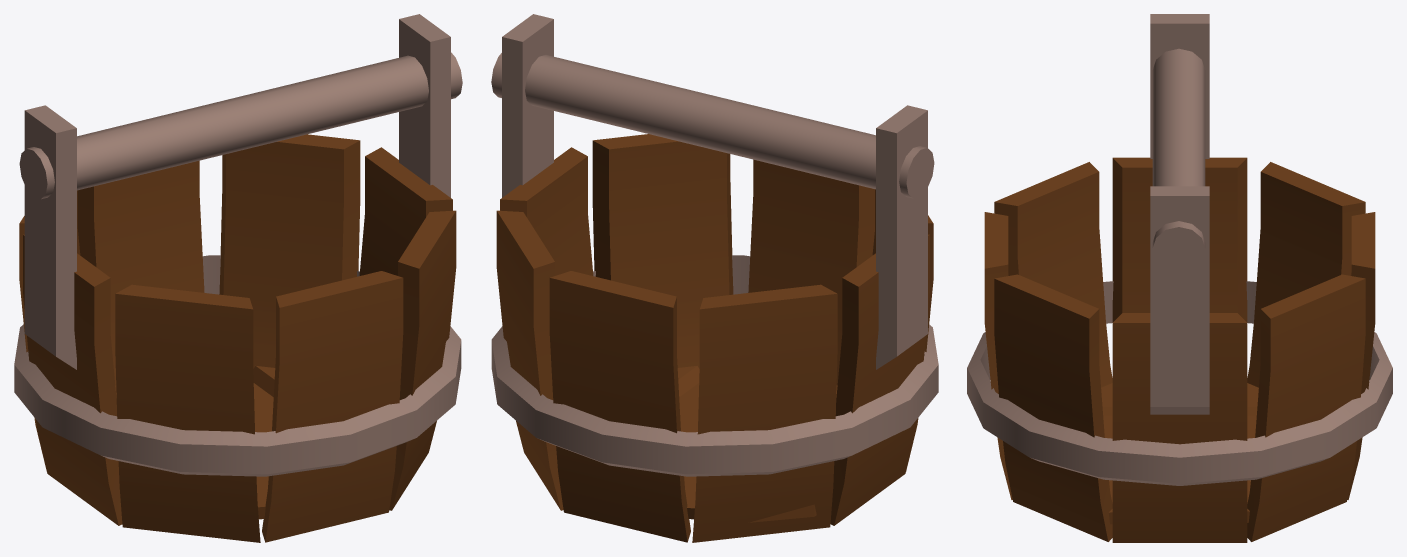
File: Prop_Bucket.glb
3 renders of one model, left to right at view 1: azimuth 30°, elevation 25°; view 2: azimuth 150°, elevation 25°; view 3: azimuth 270°, elevation 25°, orthographic. The views are drawn at different scales.
Visible parts, largest first — view 1: Prop_Bucket; view 2: Prop_Bucket; view 3: Prop_Bucket.
Part boxes in pixels (box(x1,y1,x2,y2)): Prop_Bucket: box(14, 14, 462, 542); Prop_Bucket: box(491, 14, 938, 542); Prop_Bucket: box(967, 14, 1392, 542).
Size of the model in its own units: 0.7596 by 0.6795 by 0.7147.
Materials: 1 (1 with a texture image).
